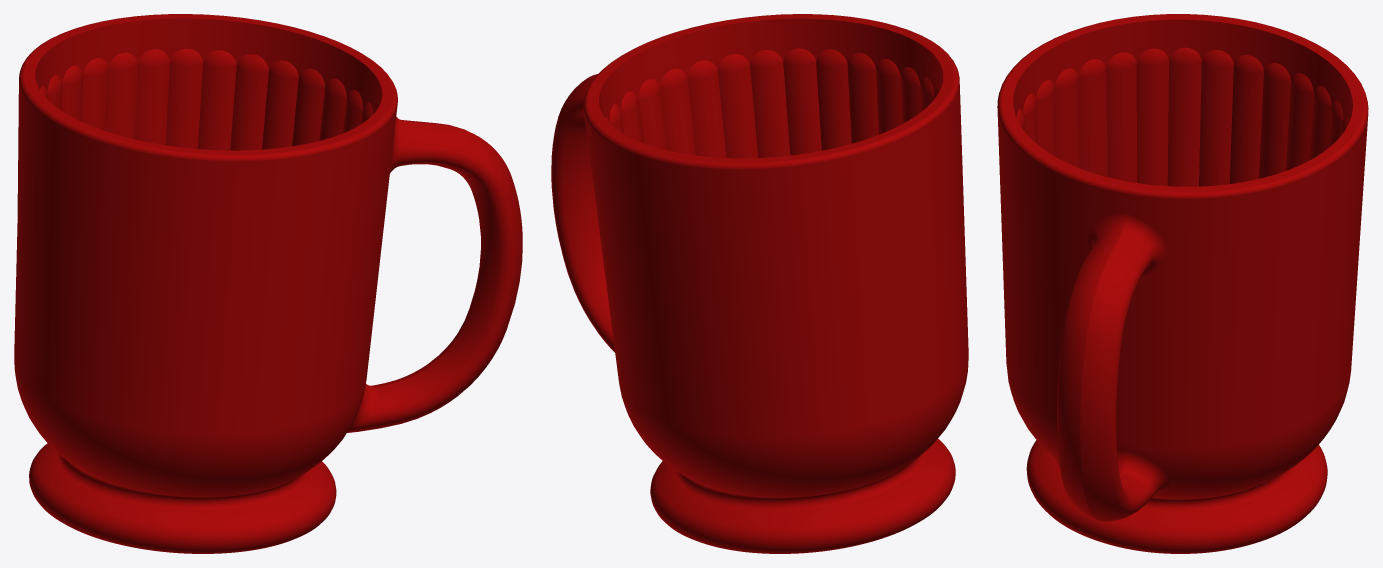
The model's file is CM-MUG029.glb.
3 views of the same model, side by side, from view 1: azimuth 30°, elevation 25°; view 2: azimuth 150°, elevation 25°; view 3: azimuth 270°, elevation 25° (orthographic). The views are drawn at different scales.
Size of the model in its own units: 0.0946 by 0.0906 by 0.0715.
